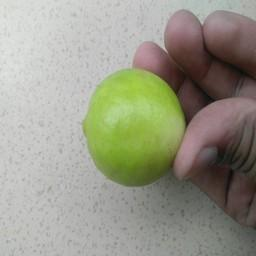Good_lime: (81, 68, 182, 190)
